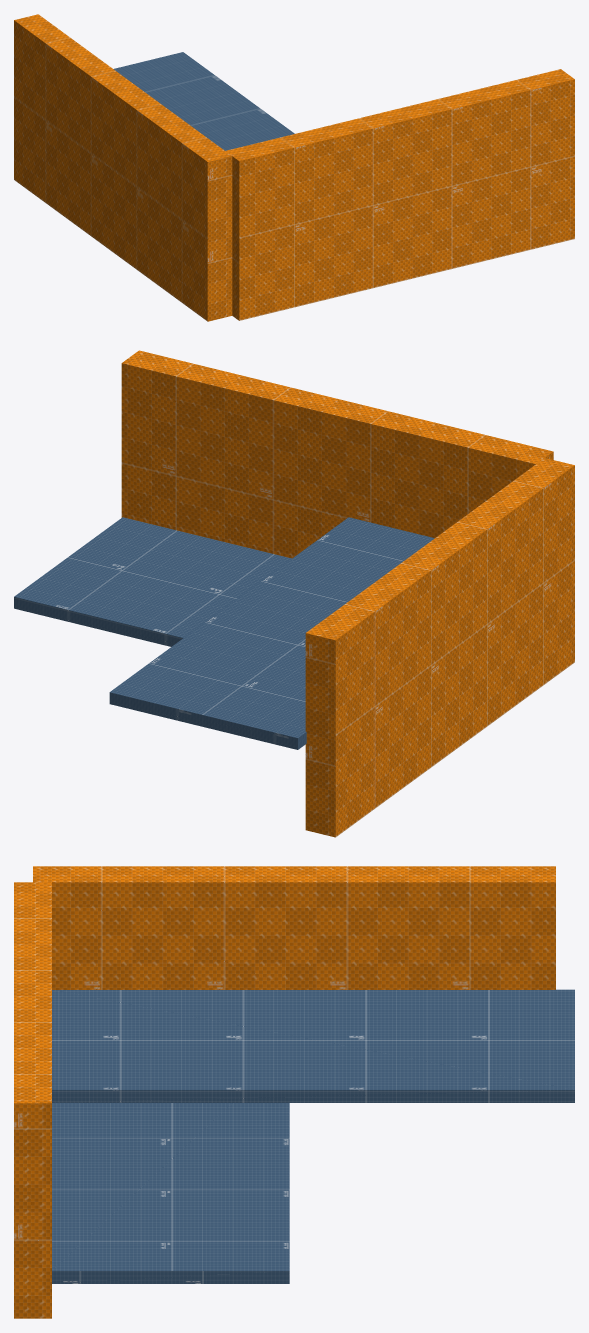
Rendered from test_walls.fbx.
3 views of the same model, one above another, from view 1: azimuth 30°, elevation 25°; view 2: azimuth 150°, elevation 25°; view 3: azimuth 270°, elevation 25° (orthographic). The views are drawn at different scales.
Visible parts, largest first — view 1: Cube, Cube.001, Cube.002; view 2: Cube.001, Cube, Cube.002, Cube.003; view 3: Cube.001, Cube.002, Cube.003, Cube.
Boxes of the visible parts, x1,y1,x2,y2 form: Cube: (225, 69, 574, 320); Cube.001: (14, 14, 232, 321); Cube.002: (113, 52, 294, 150); Cube.001: (305, 458, 574, 837); Cube: (121, 350, 553, 558); Cube.002: (109, 517, 434, 749); Cube.003: (14, 517, 291, 646); Cube.001: (33, 866, 555, 989); Cube.002: (52, 989, 574, 1102); Cube.003: (52, 1103, 289, 1283); Cube: (14, 882, 51, 1318).
Bounding box in the file's own units: 11.8 × 5 × 11.8.
2 materials, 2 textured.
